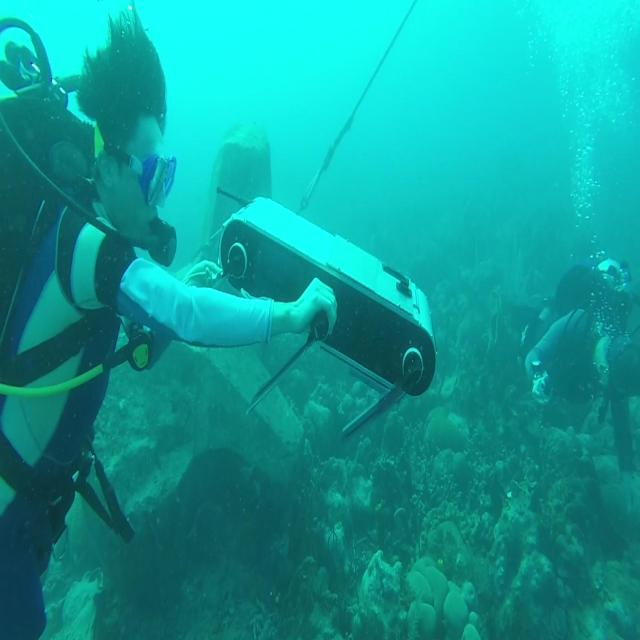human: (0, 5, 338, 636), (510, 239, 640, 453)
